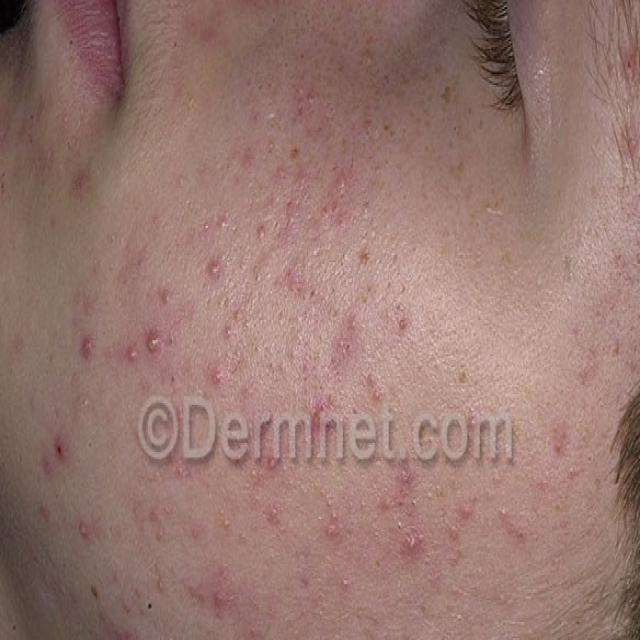Acne: (246, 98, 444, 378), (145, 499, 287, 640), (75, 310, 187, 364), (398, 515, 486, 565), (33, 416, 85, 497), (197, 233, 230, 296), (64, 154, 93, 203), (116, 629, 136, 640)
